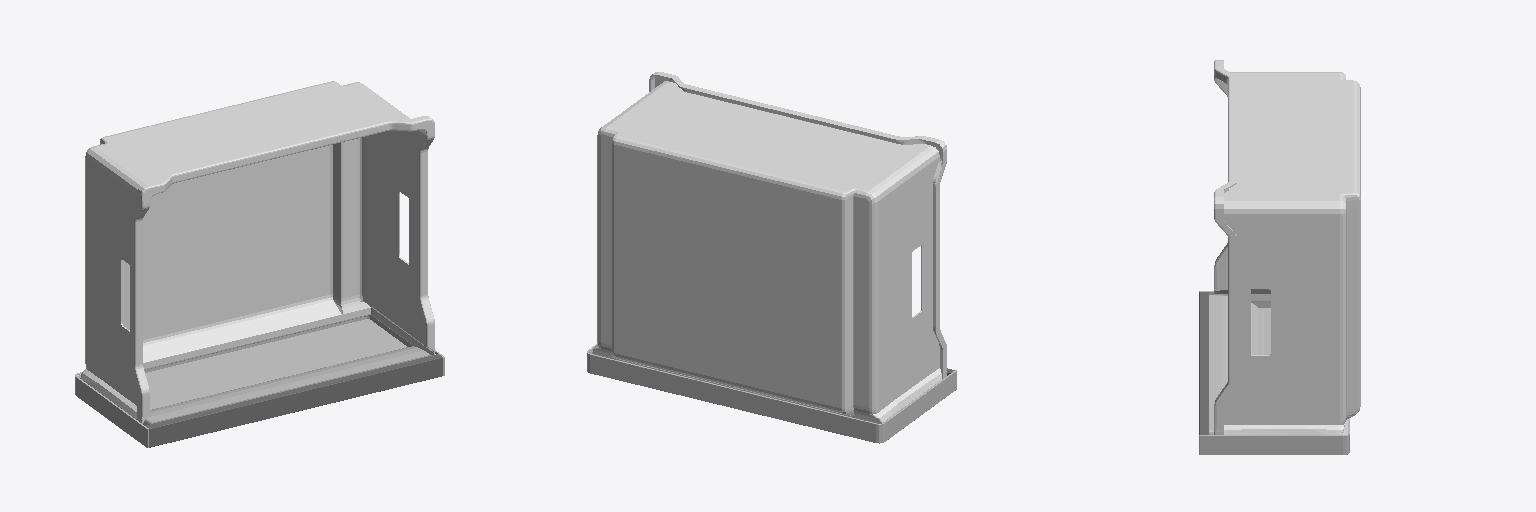
The picture shows the model from 3 angles: view 1: azimuth 30°, elevation 25°; view 2: azimuth 150°, elevation 25°; view 3: azimuth 270°, elevation 25°; orthographic projection.
Visible parts, largest first — view 1: SM_Fridge_Drawer_03; view 2: SM_Fridge_Drawer_03; view 3: SM_Fridge_Drawer_03.
Boxes of the visible parts, box(x1,y1,x2,y2) form: SM_Fridge_Drawer_03: box(75, 81, 444, 447); SM_Fridge_Drawer_03: box(587, 72, 956, 443); SM_Fridge_Drawer_03: box(1199, 60, 1360, 454).
Size of the model in its own units: 0.409 by 0.333 by 0.192.
3 materials, 2 textured.